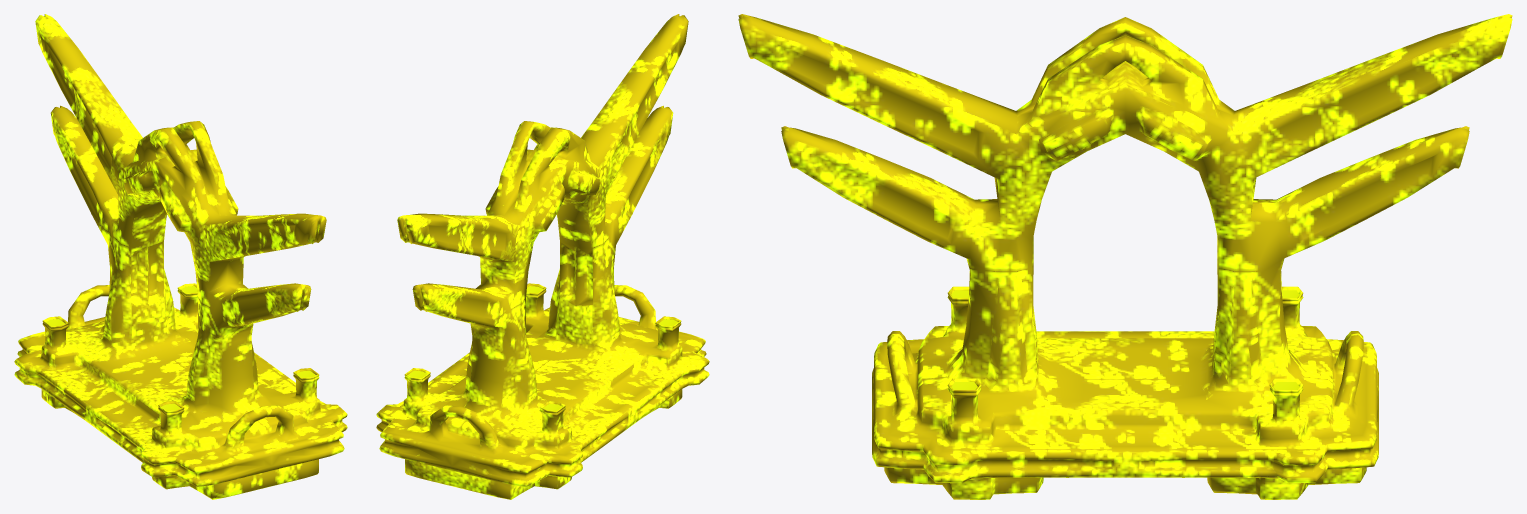
The model's file is portal.gltf.
3 renders of one model, left to right at view 1: azimuth 30°, elevation 25°; view 2: azimuth 150°, elevation 25°; view 3: azimuth 270°, elevation 25°, orthographic. The views are drawn at different scales.
Parts seen in each view (by area): view 1: portal.020; view 2: portal.020; view 3: portal.020.
Boxes of the visible parts, x1,y1,x2,y2 form: portal.020: [14, 14, 347, 499]; portal.020: [376, 14, 709, 499]; portal.020: [738, 14, 1512, 499].
Bounding box in the file's own units: 3.32 × 5.02 × 8.14.
